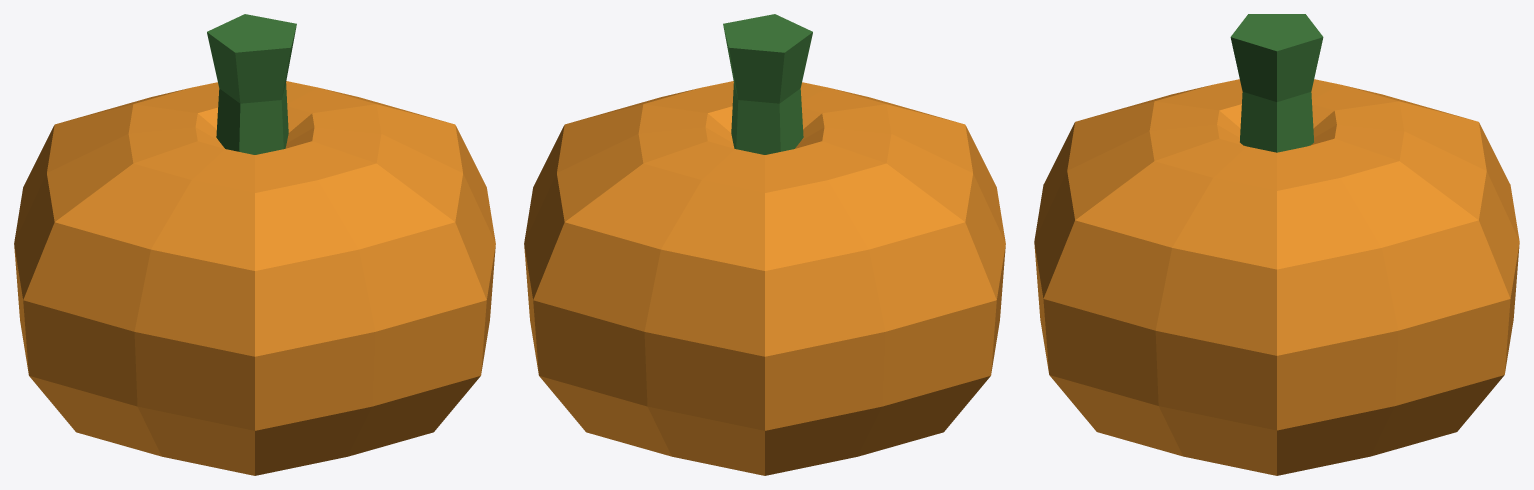
File: FD_Pumpkin_01.glb
3 views of the same model, side by side, from view 1: azimuth 30°, elevation 25°; view 2: azimuth 150°, elevation 25°; view 3: azimuth 270°, elevation 25° (orthographic).
Parts seen in each view (by area): view 1: FD_Pumpkin_01; view 2: FD_Pumpkin_01; view 3: FD_Pumpkin_01.
Part boxes in pixels (left/top/right/bottom): FD_Pumpkin_01: left=14, top=14, right=495, bottom=475; FD_Pumpkin_01: left=524, top=14, right=1005, bottom=475; FD_Pumpkin_01: left=1034, top=14, right=1519, bottom=475.
Size of the model in its own units: 0.2981 by 0.2368 by 0.2683.
Materials: 1 (1 with a texture image).
